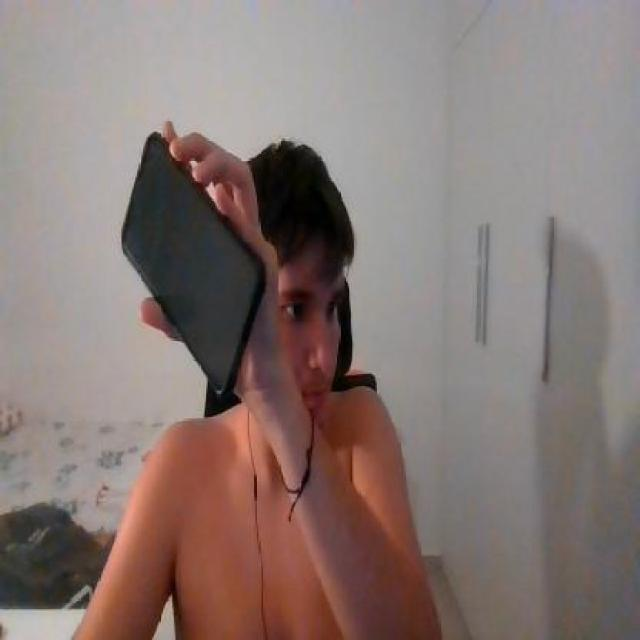phone: (122, 132, 266, 403)
